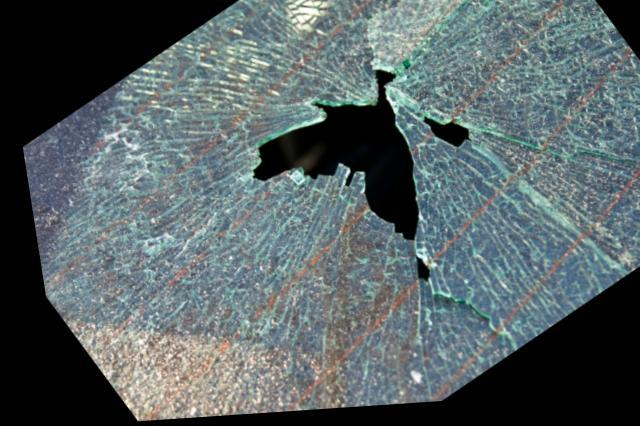glass shatter: (18, 0, 640, 422)
